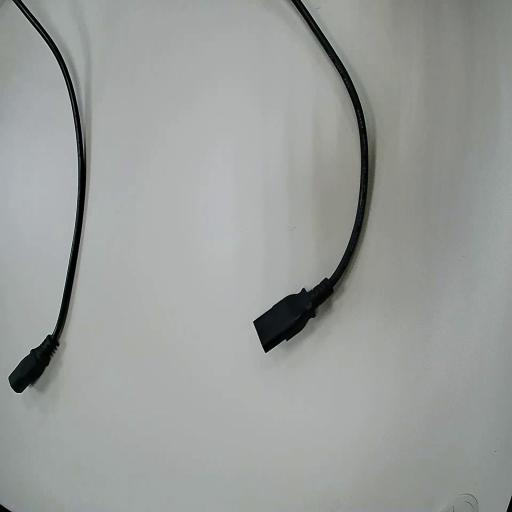wire: (255, 0, 369, 350), (10, 0, 85, 391)
